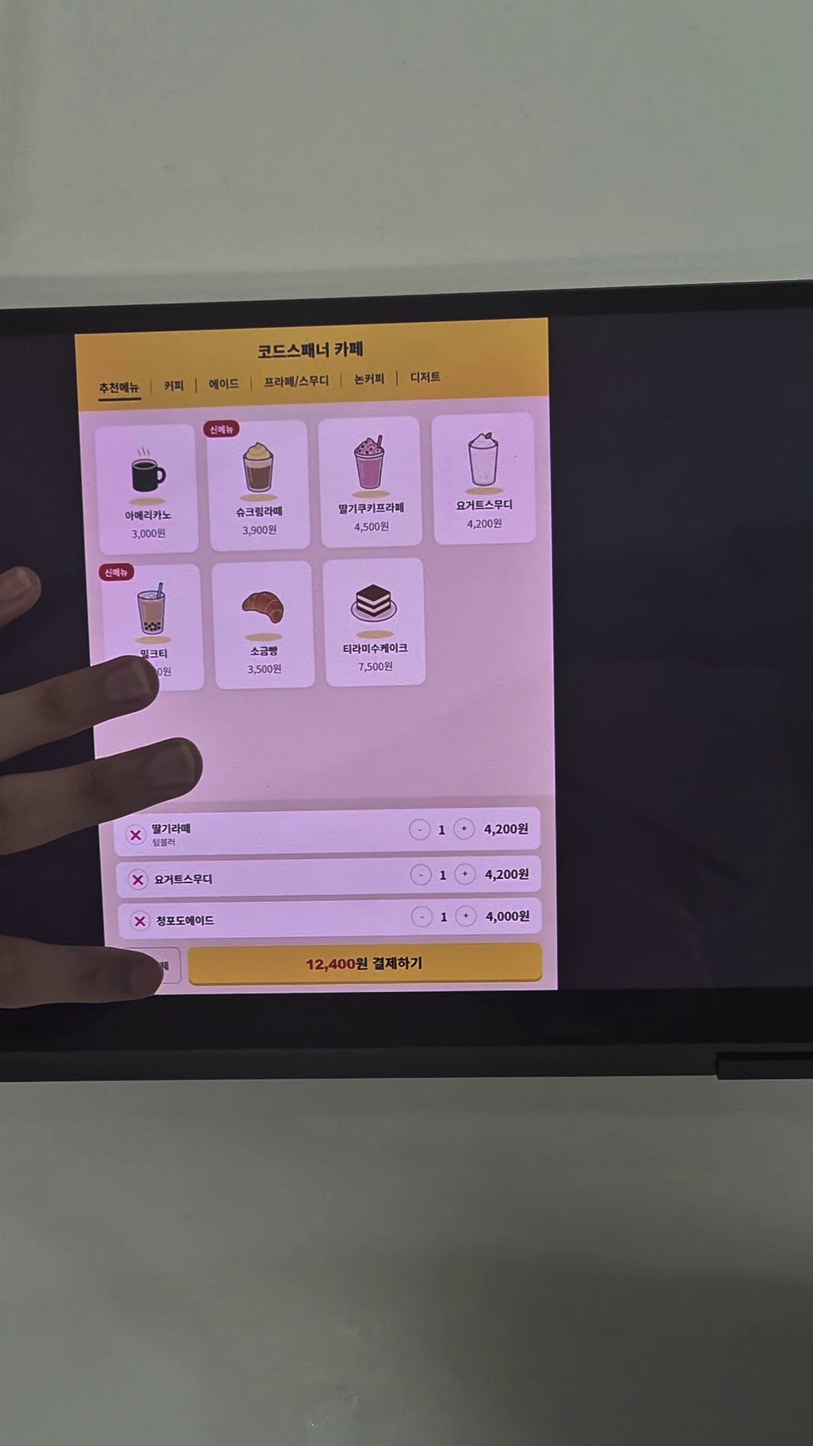action_button: (188, 943, 543, 985), (120, 948, 181, 984)
cart_item: (113, 806, 541, 857), (116, 855, 542, 899), (118, 897, 542, 939)
category_tab: (263, 374, 329, 389), (98, 381, 140, 395), (354, 372, 385, 386), (208, 377, 240, 390), (410, 371, 441, 384), (162, 378, 185, 393)
menu_back: (431, 412, 536, 546), (318, 416, 423, 549), (206, 419, 310, 553), (95, 424, 199, 557), (211, 560, 315, 690), (323, 557, 426, 688), (102, 563, 205, 692)
menu_name: (337, 500, 405, 518), (341, 641, 409, 655), (455, 498, 513, 512), (235, 505, 283, 520), (124, 508, 172, 522), (249, 644, 280, 658)
menu_price: (465, 517, 504, 531), (353, 520, 390, 534), (246, 662, 283, 676), (241, 523, 277, 537), (357, 660, 394, 673), (130, 527, 166, 540)
